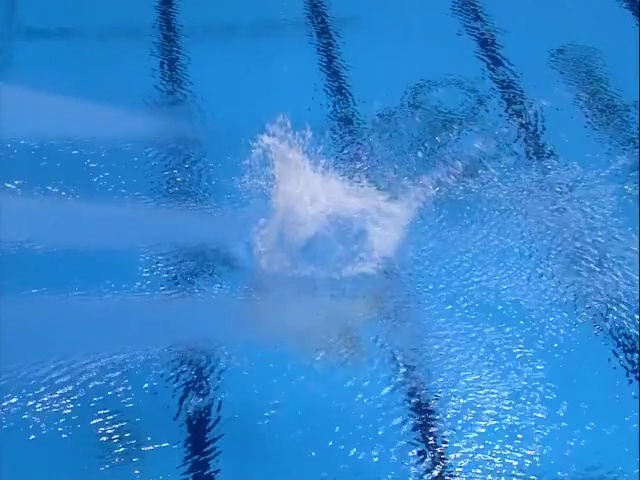splash: (254, 129, 403, 279)
